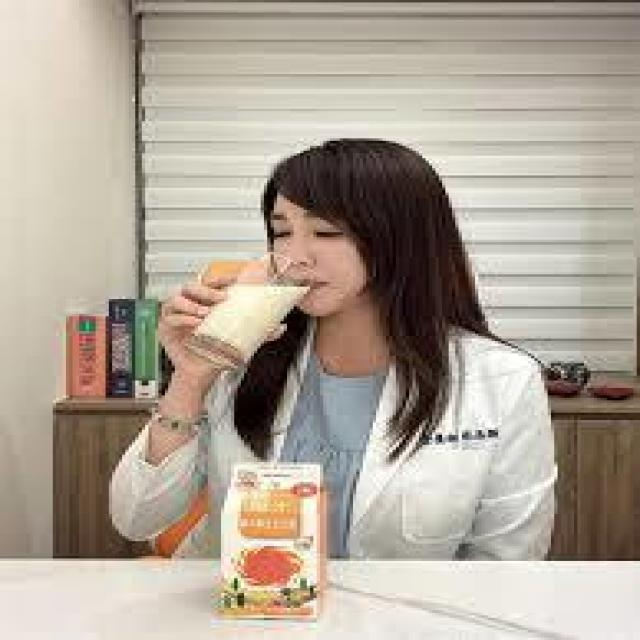TongYi_SoyMilk: (222, 462, 322, 615)
